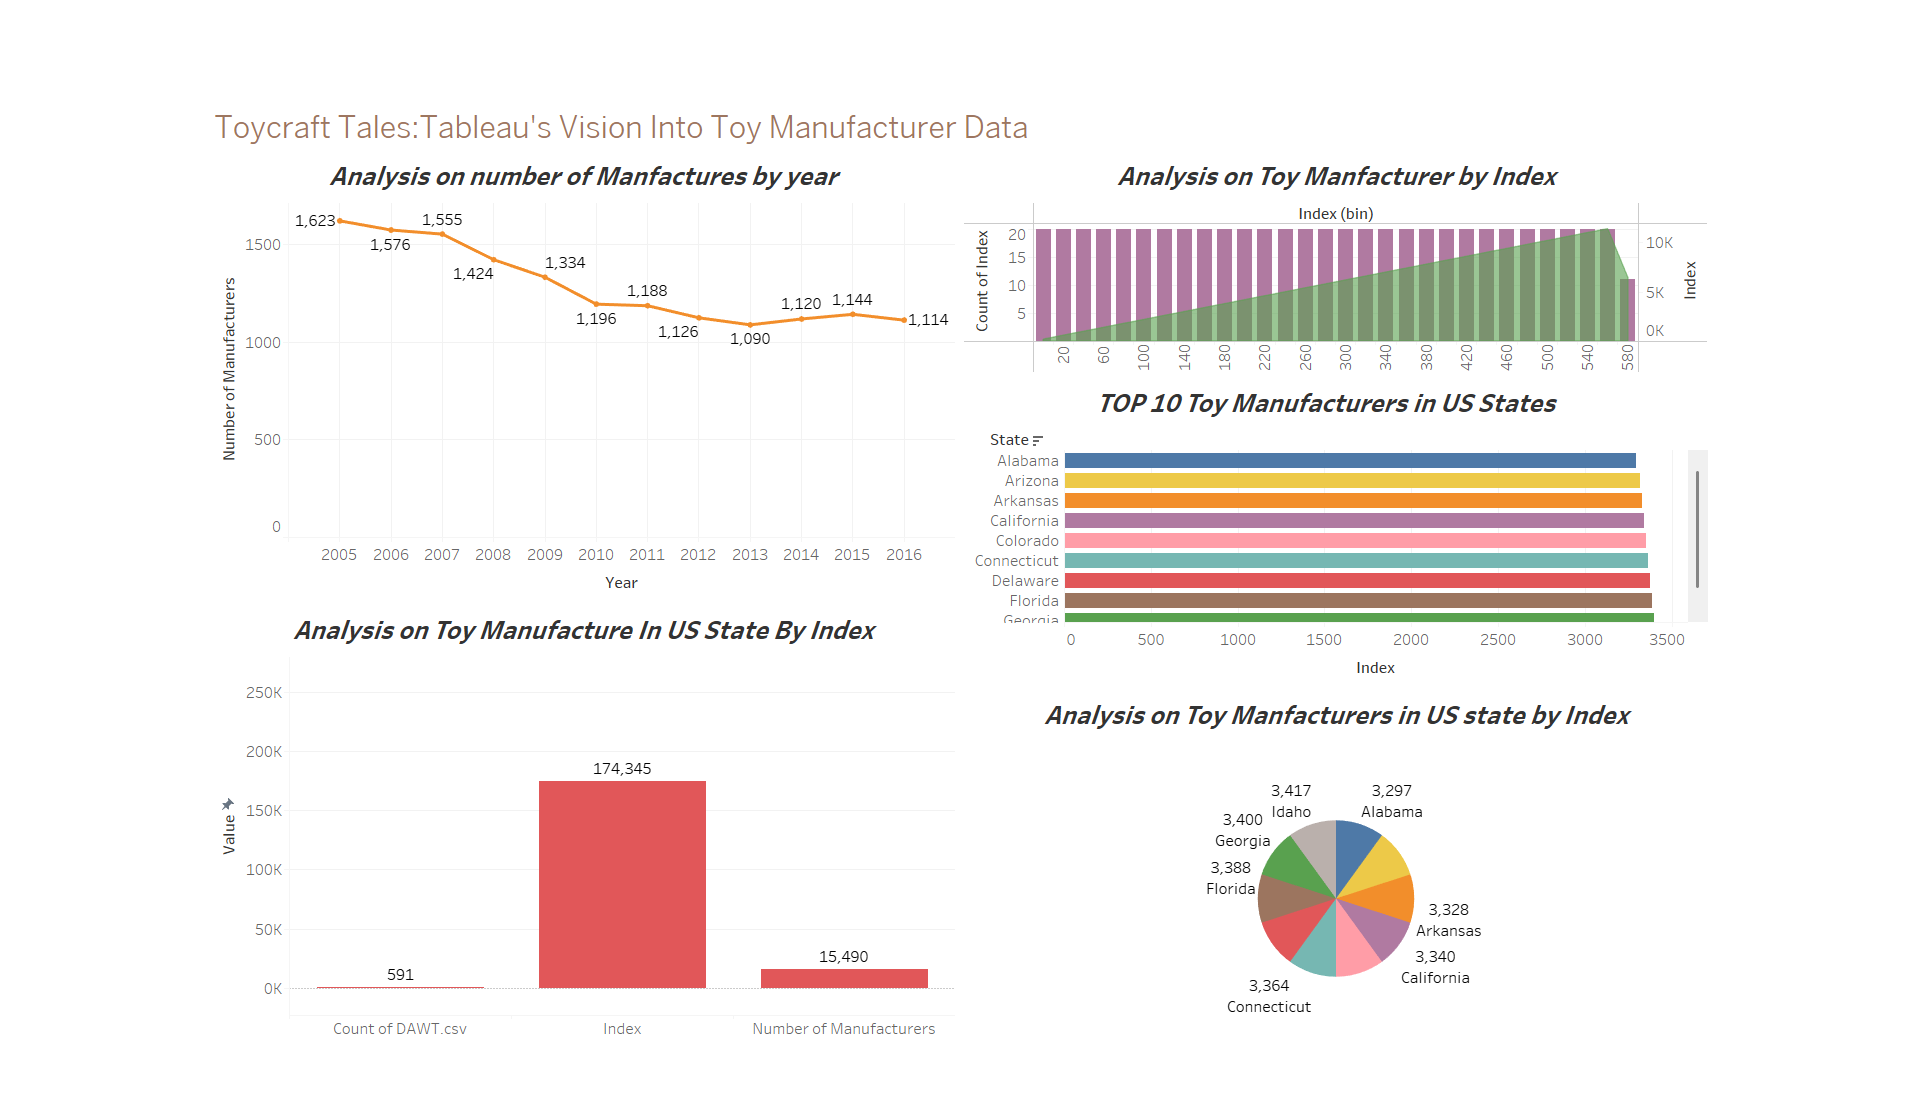

The dashboard page shown, as its layout file describes it:
{"tool":"tableau","page":{"name":"Dashboard 2","canvas":[1521,971],"ordinal":1},"visuals":[{"type":"title","box":[8,8,1505,46]},{"type":"worksheet","title":"Analysis on number of manfacturers by year","mark":"Automatic","rows":["Number of Manufacturers"],"cols":["Year"],"box":[8,54,752.5,454.5]},{"type":"worksheet","title":"Analysis on Toy Manfacturer by Index","mark":"Automatic","rows":["index","index"],"cols":["Index (bin)"],"box":[760.5,54,752.5,227.2]},{"type":"worksheet","title":"Top 10 Manfactures in US States","mark":"Automatic","rows":["State"],"cols":["index"],"box":[760.5,281.2,752.5,311.9]},{"type":"worksheet","title":"Analysis on Toy Manfacturer in US State by Index","mark":"Automatic","box":[8,508.5,752.5,454.5]},{"type":"worksheet","title":"Analysis on Toy Manfacturers in US State by Index","mark":"Pie","box":[760.5,593.1,752.5,369.9]}]}

Visuals, with their boxes on the page's 1521x971 design canvas (x1, y1, x2, y2). These are canvas units, not pixel positions in the 1915x1100 screenshot, which may show the page scaled, cropped or inside an application window:
title: bbox(8, 8, 1513, 54)
"Analysis on number of manfacturers by year" worksheet: bbox(8, 54, 760, 508)
"Analysis on Toy Manfacturer by Index" worksheet: bbox(760, 54, 1513, 281)
"Top 10 Manfactures in US States" worksheet: bbox(760, 281, 1513, 593)
"Analysis on Toy Manfacturer in US State by Index" worksheet: bbox(8, 508, 760, 963)
"Analysis on Toy Manfacturers in US State by Index" worksheet (Pie marks): bbox(760, 593, 1513, 963)
